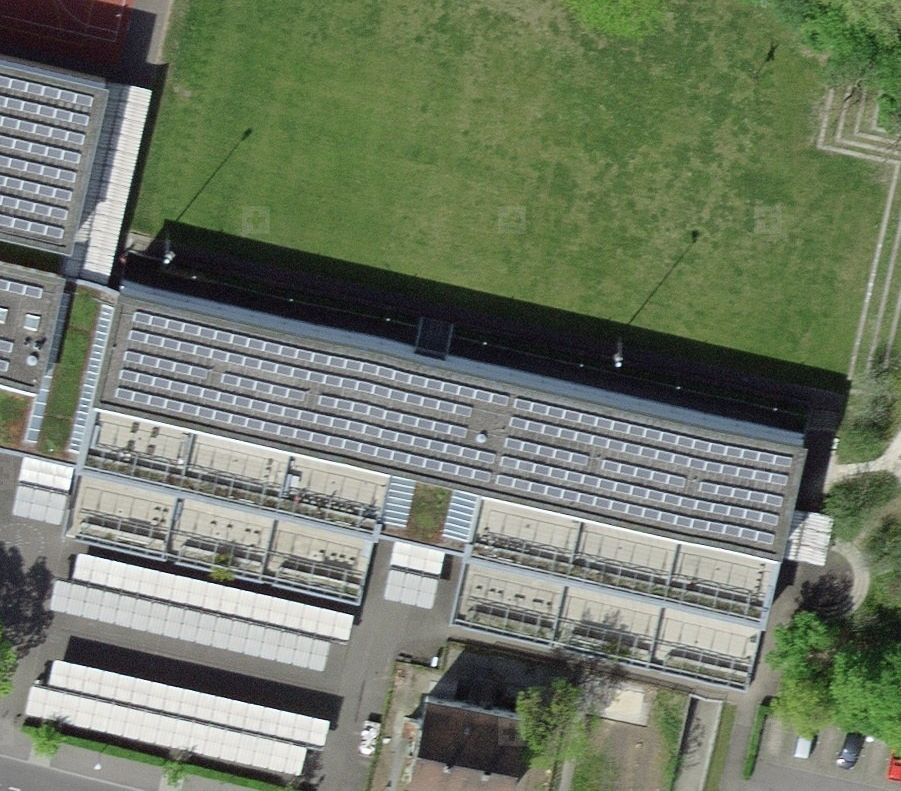solar: (116, 307, 798, 553), (1, 66, 96, 242)
